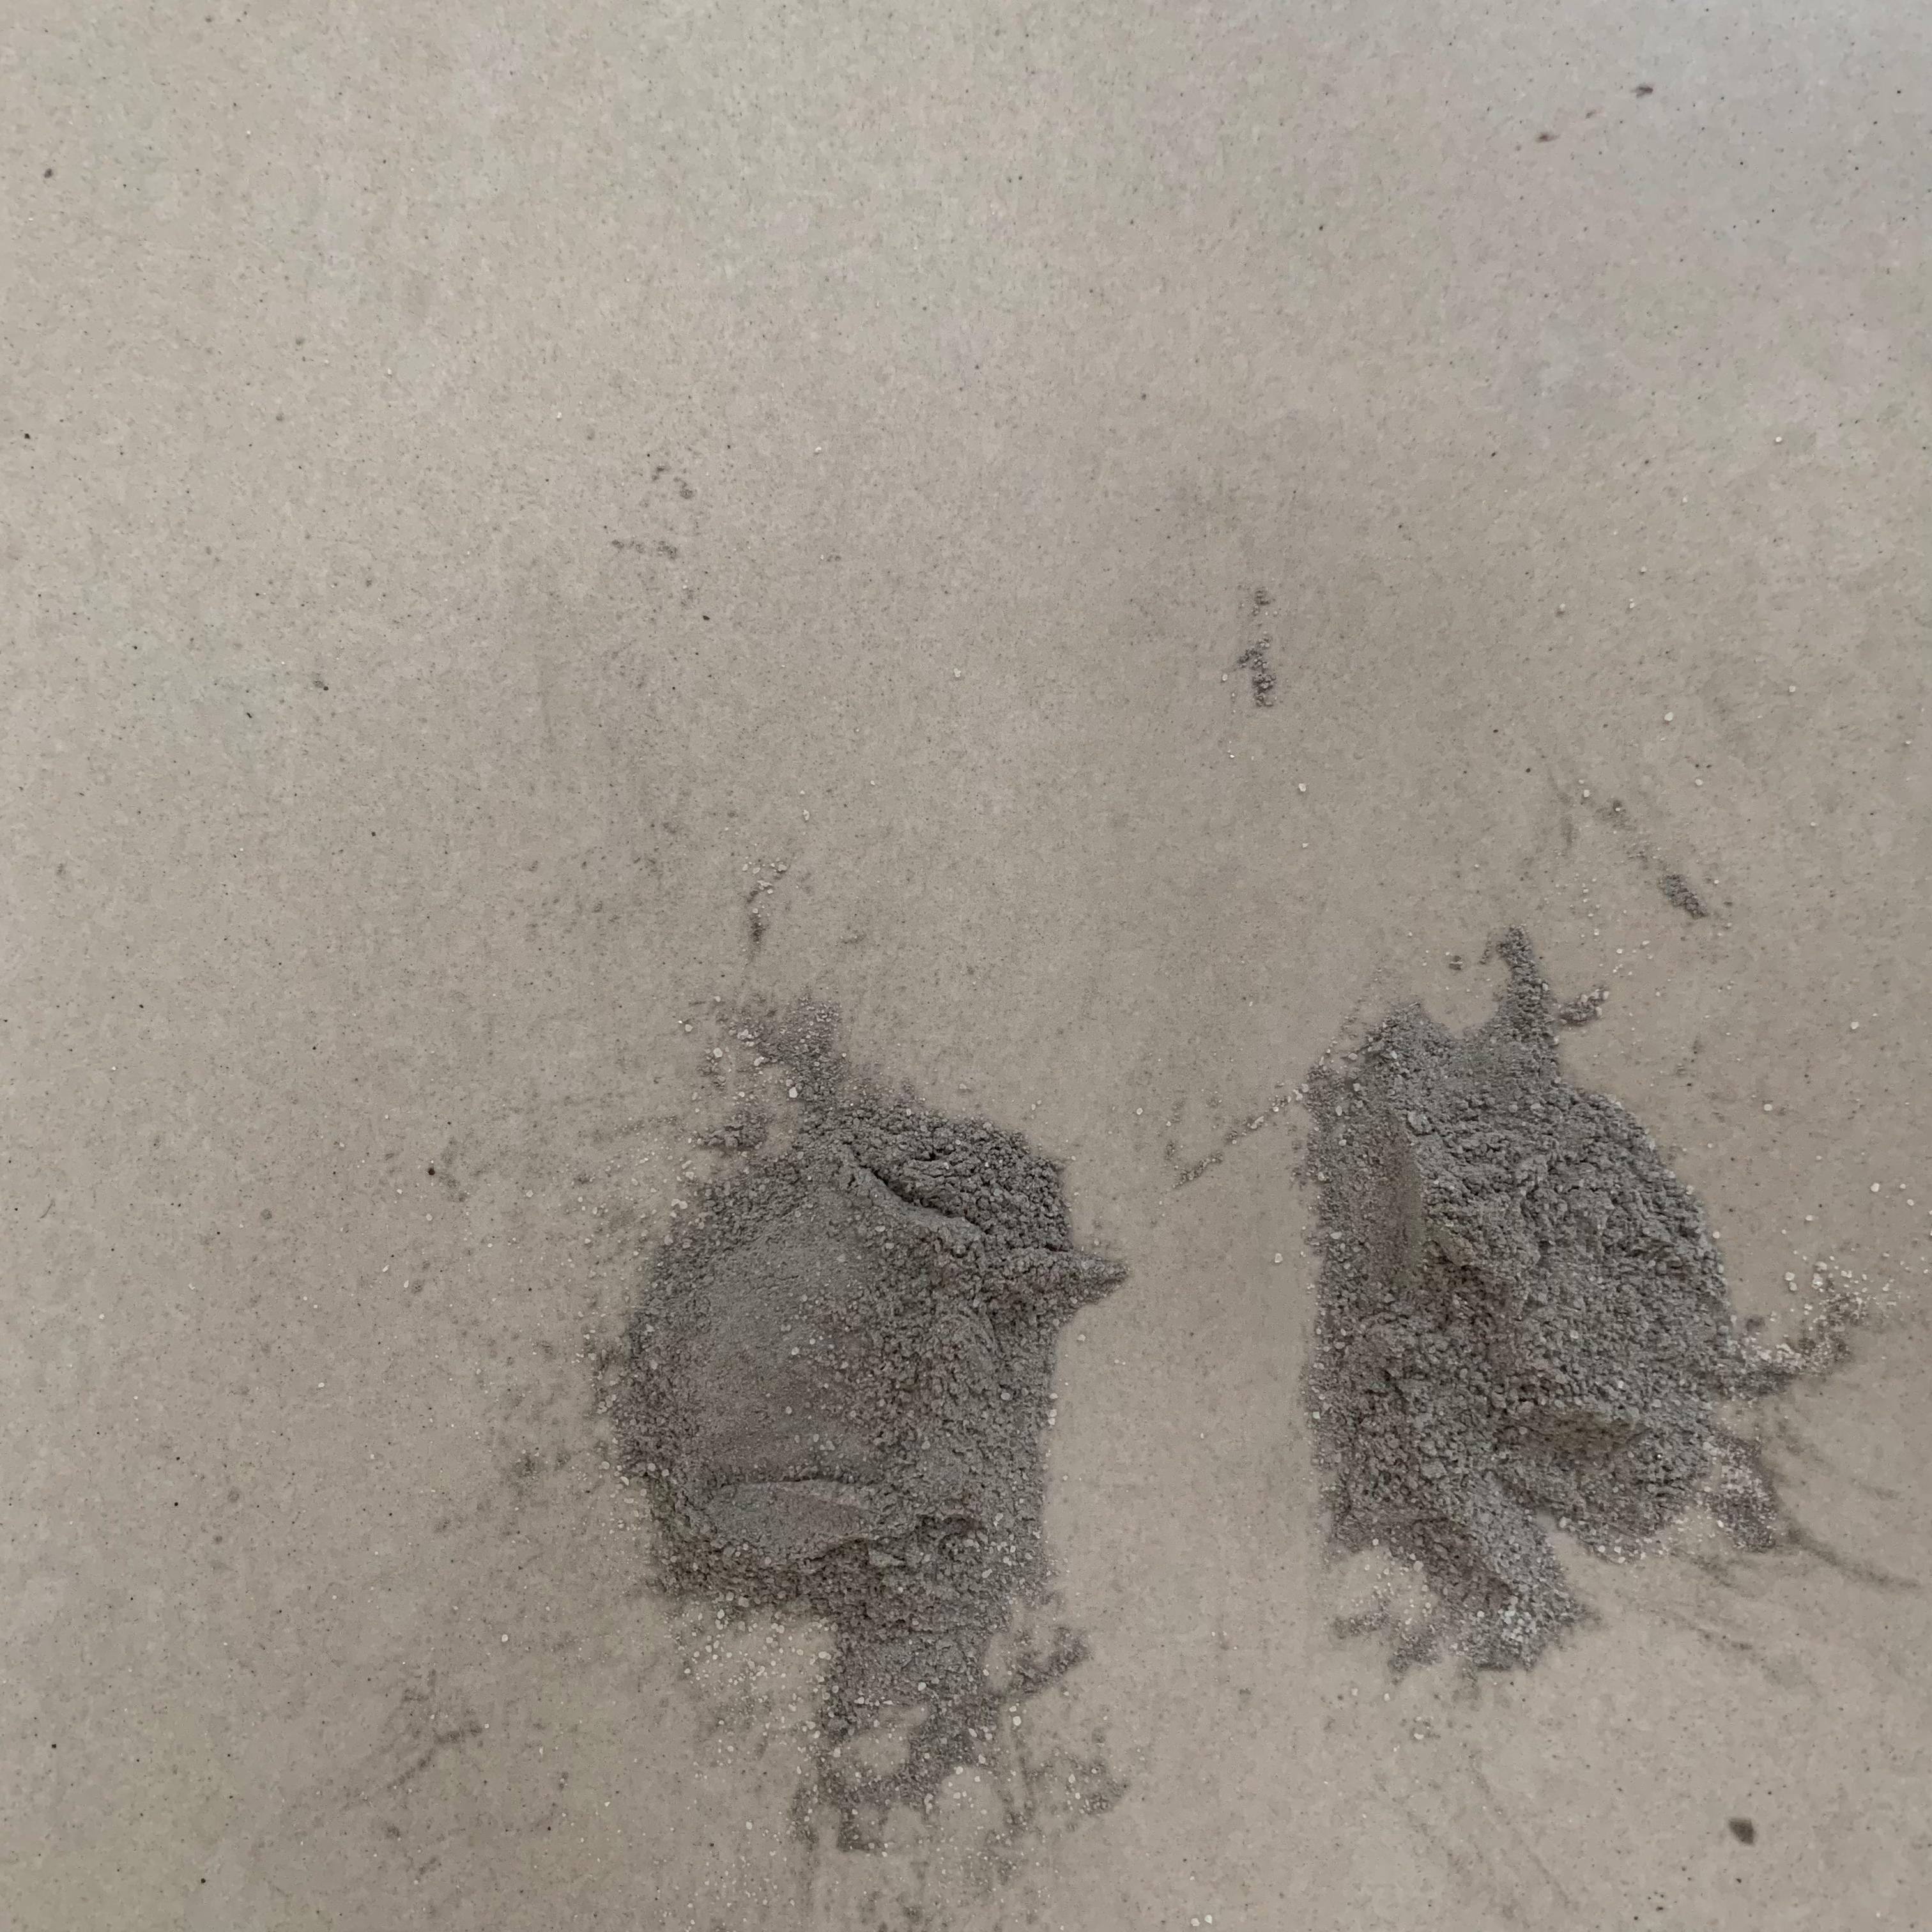ash pile: (587, 991, 1129, 1932), (1293, 929, 1932, 1697)
